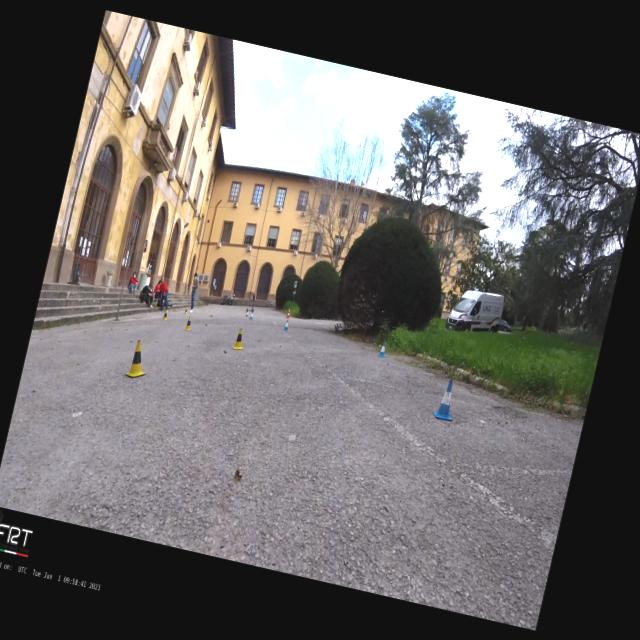blue_cone: (430, 376, 460, 422), (376, 338, 389, 358), (282, 318, 290, 332), (248, 312, 254, 321), (244, 310, 250, 318)
large_orange_cone: (285, 308, 291, 318)
yellow_cone: (124, 338, 152, 381), (230, 326, 248, 352), (184, 314, 194, 332), (162, 308, 169, 320), (153, 300, 157, 308), (184, 308, 188, 314)
